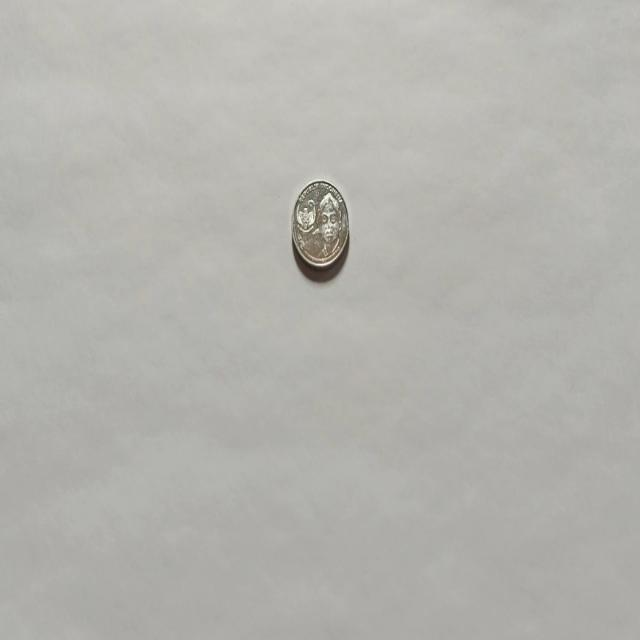dua ratus rupiah: (290, 178, 350, 272)
